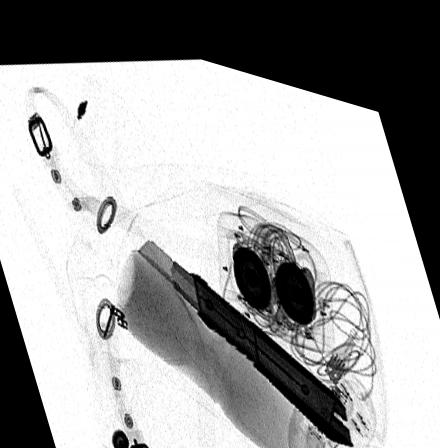Knife: (136, 227, 355, 427)
